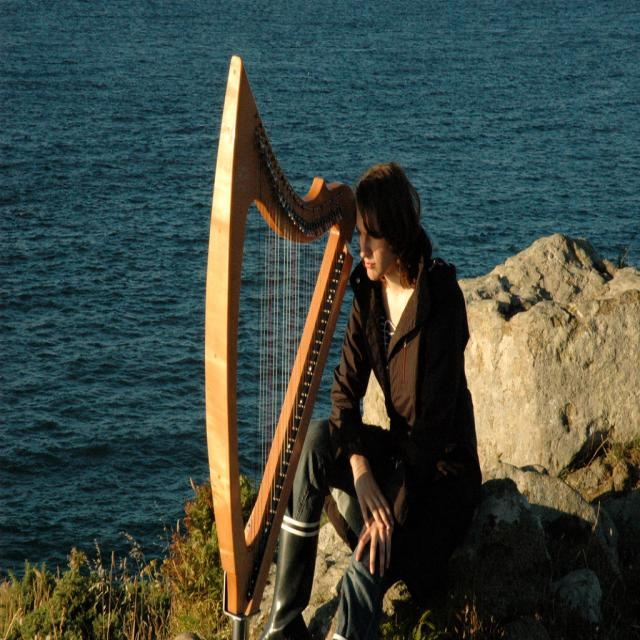harp: (196, 46, 360, 616)
